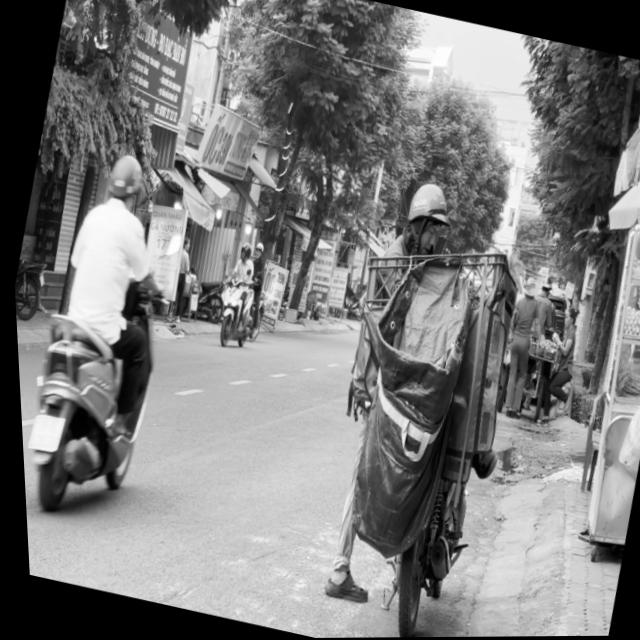helmet: (96, 146, 147, 211)
licenseplate: (6, 135, 204, 527)
nohelmet: (21, 411, 61, 453)
